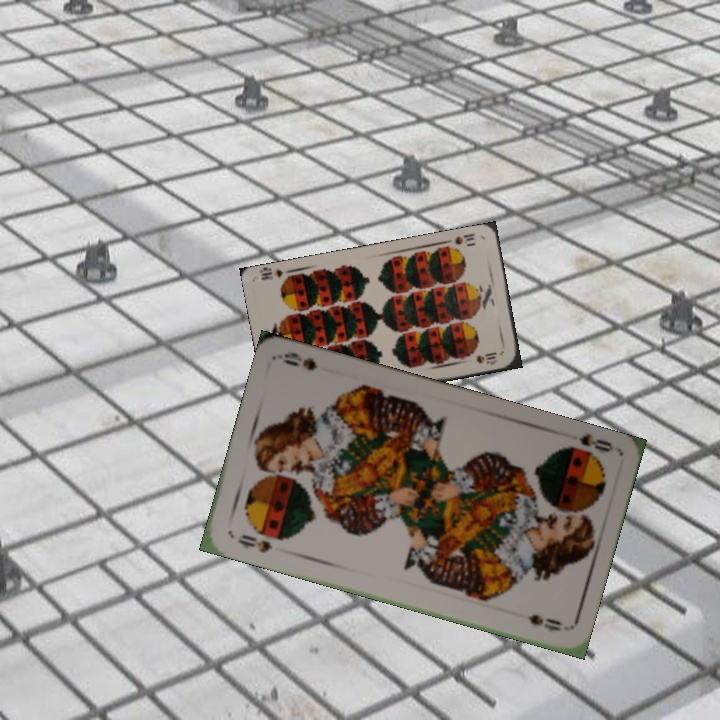S10: (451, 229, 477, 247)
SO: (233, 530, 275, 556), (574, 430, 616, 455)
